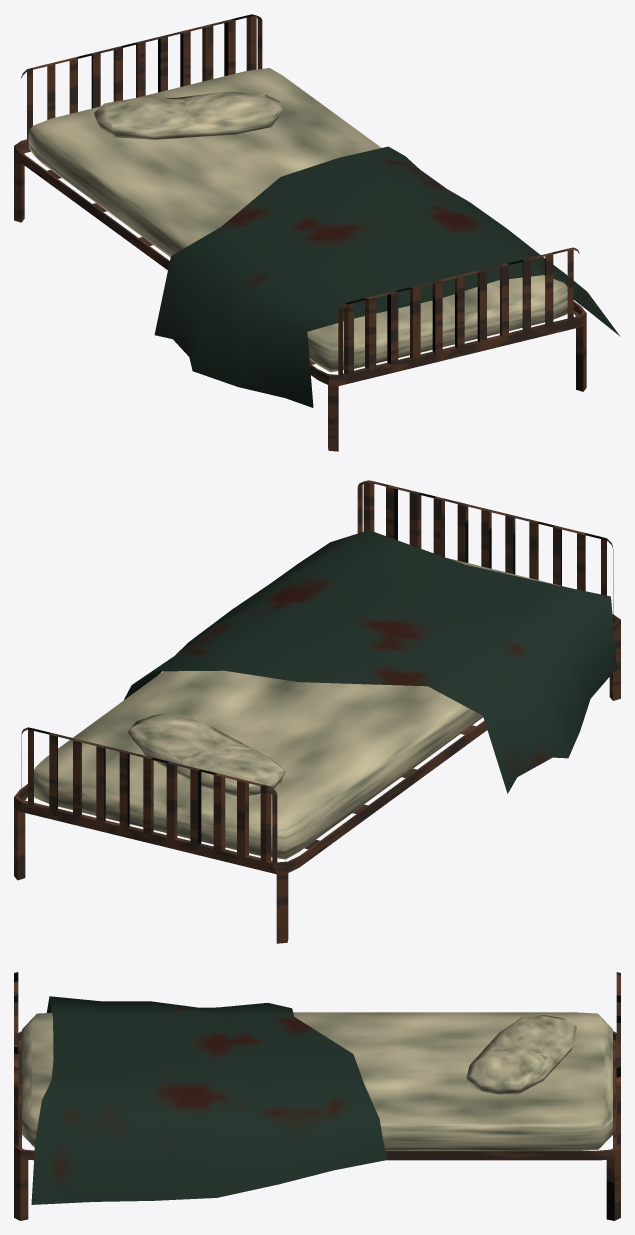
Rendered from Prop_Bed.glb.
3 views of the same model, one above another, from view 1: azimuth 30°, elevation 25°; view 2: azimuth 150°, elevation 25°; view 3: azimuth 270°, elevation 25° (orthographic). The views are drawn at different scales.
Parts seen in each view (by area): view 1: Plane, Cube.002, Cube.001, Roundcube.001; view 2: Plane, Cube.002, Cube.001, Roundcube.001; view 3: Plane, Cube.002, Cube.001, Roundcube.001.
Boxes of the visible parts, left/top/right/bottom form: Plane: left=154, top=146, right=620, bottom=407; Cube.002: left=28, top=68, right=567, bottom=372; Cube.001: left=14, top=14, right=586, bottom=451; Roundcube.001: left=94, top=91, right=282, bottom=139; Plane: left=124, top=530, right=616, bottom=793; Cube.002: left=34, top=558, right=569, bottom=859; Cube.001: left=14, top=480, right=620, bottom=943; Roundcube.001: left=128, top=713, right=286, bottom=796; Plane: left=31, top=996, right=387, bottom=1204; Cube.002: left=22, top=1012, right=612, bottom=1150; Cube.001: left=14, top=972, right=620, bottom=1220; Roundcube.001: left=466, top=1015, right=576, bottom=1094.
Bounding box in the file's own units: 1.17 × 0.4725 × 1.9.
Materials: 4 (4 with a texture image).
